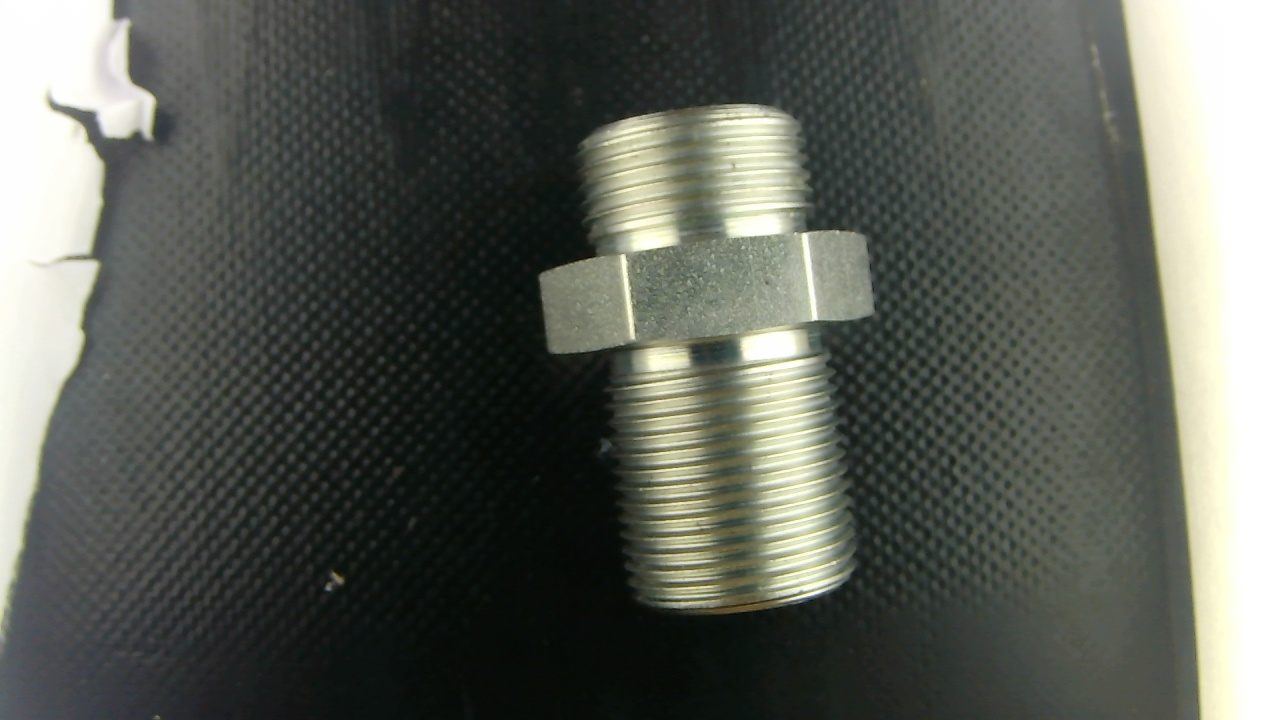okay_adapter: (539, 104, 873, 614)
